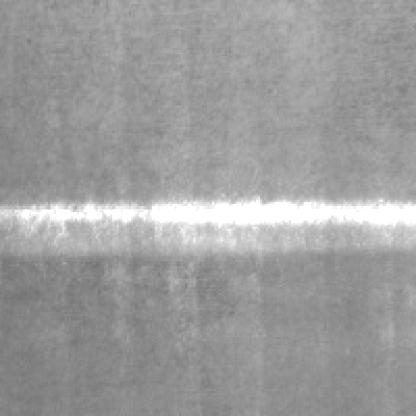scratches: (2, 194, 416, 252)
